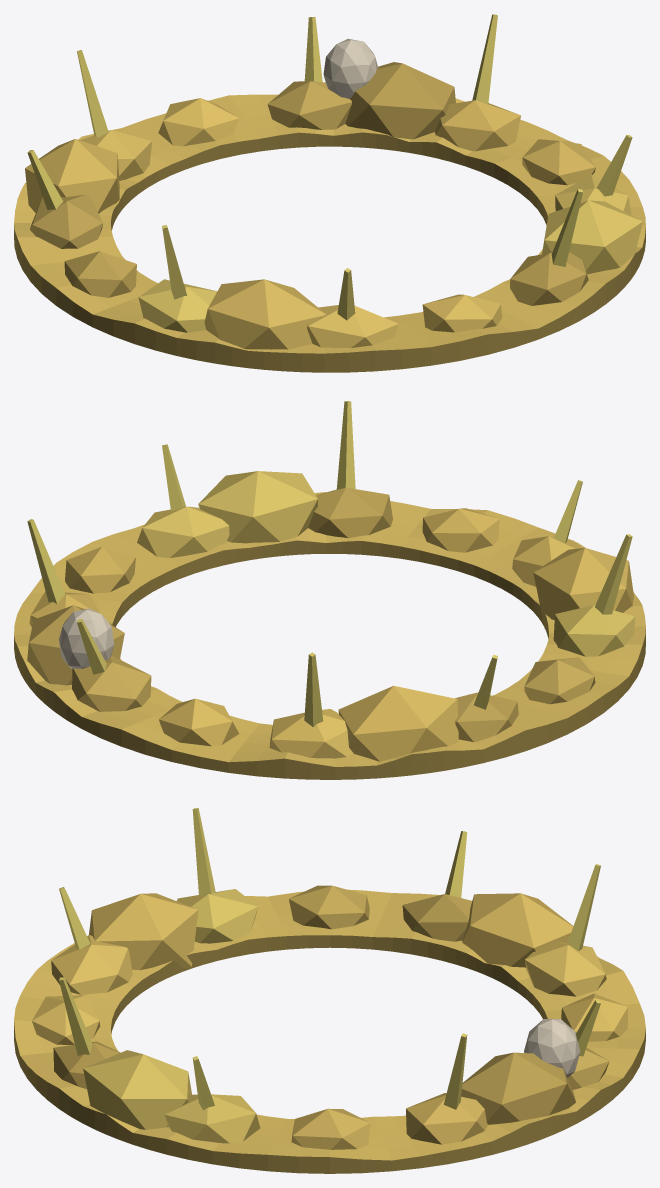
The model's file is habitat_hay_nest_overlay.fbx.
3 views of the same model, one above another, from view 1: azimuth 30°, elevation 25°; view 2: azimuth 150°, elevation 25°; view 3: azimuth 270°, elevation 25° (orthographic).
Parts seen in each view (by area): view 1: habitat_hay_nest_overlay; view 2: habitat_hay_nest_overlay; view 3: habitat_hay_nest_overlay.
Part boxes in pixels (x1=…): habitat_hay_nest_overlay: x1=14, y1=14, x2=645, y2=372; habitat_hay_nest_overlay: x1=14, y1=401, x2=645, y2=779; habitat_hay_nest_overlay: x1=14, y1=808, x2=645, y2=1173.
Size of the model in its own units: 7.5 by 1.56 by 7.5.
